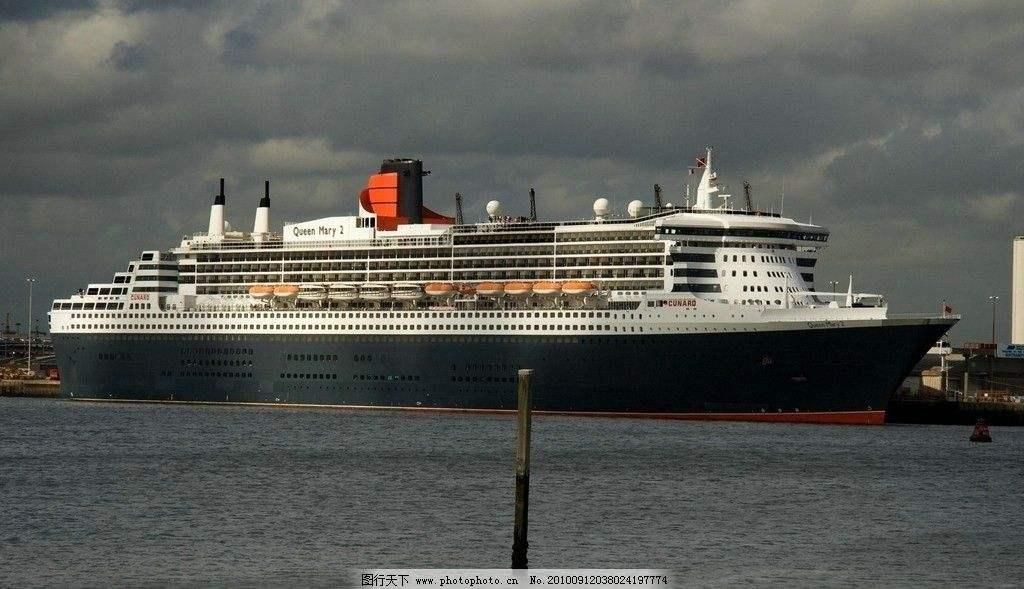youlun: (46, 143, 969, 423)
